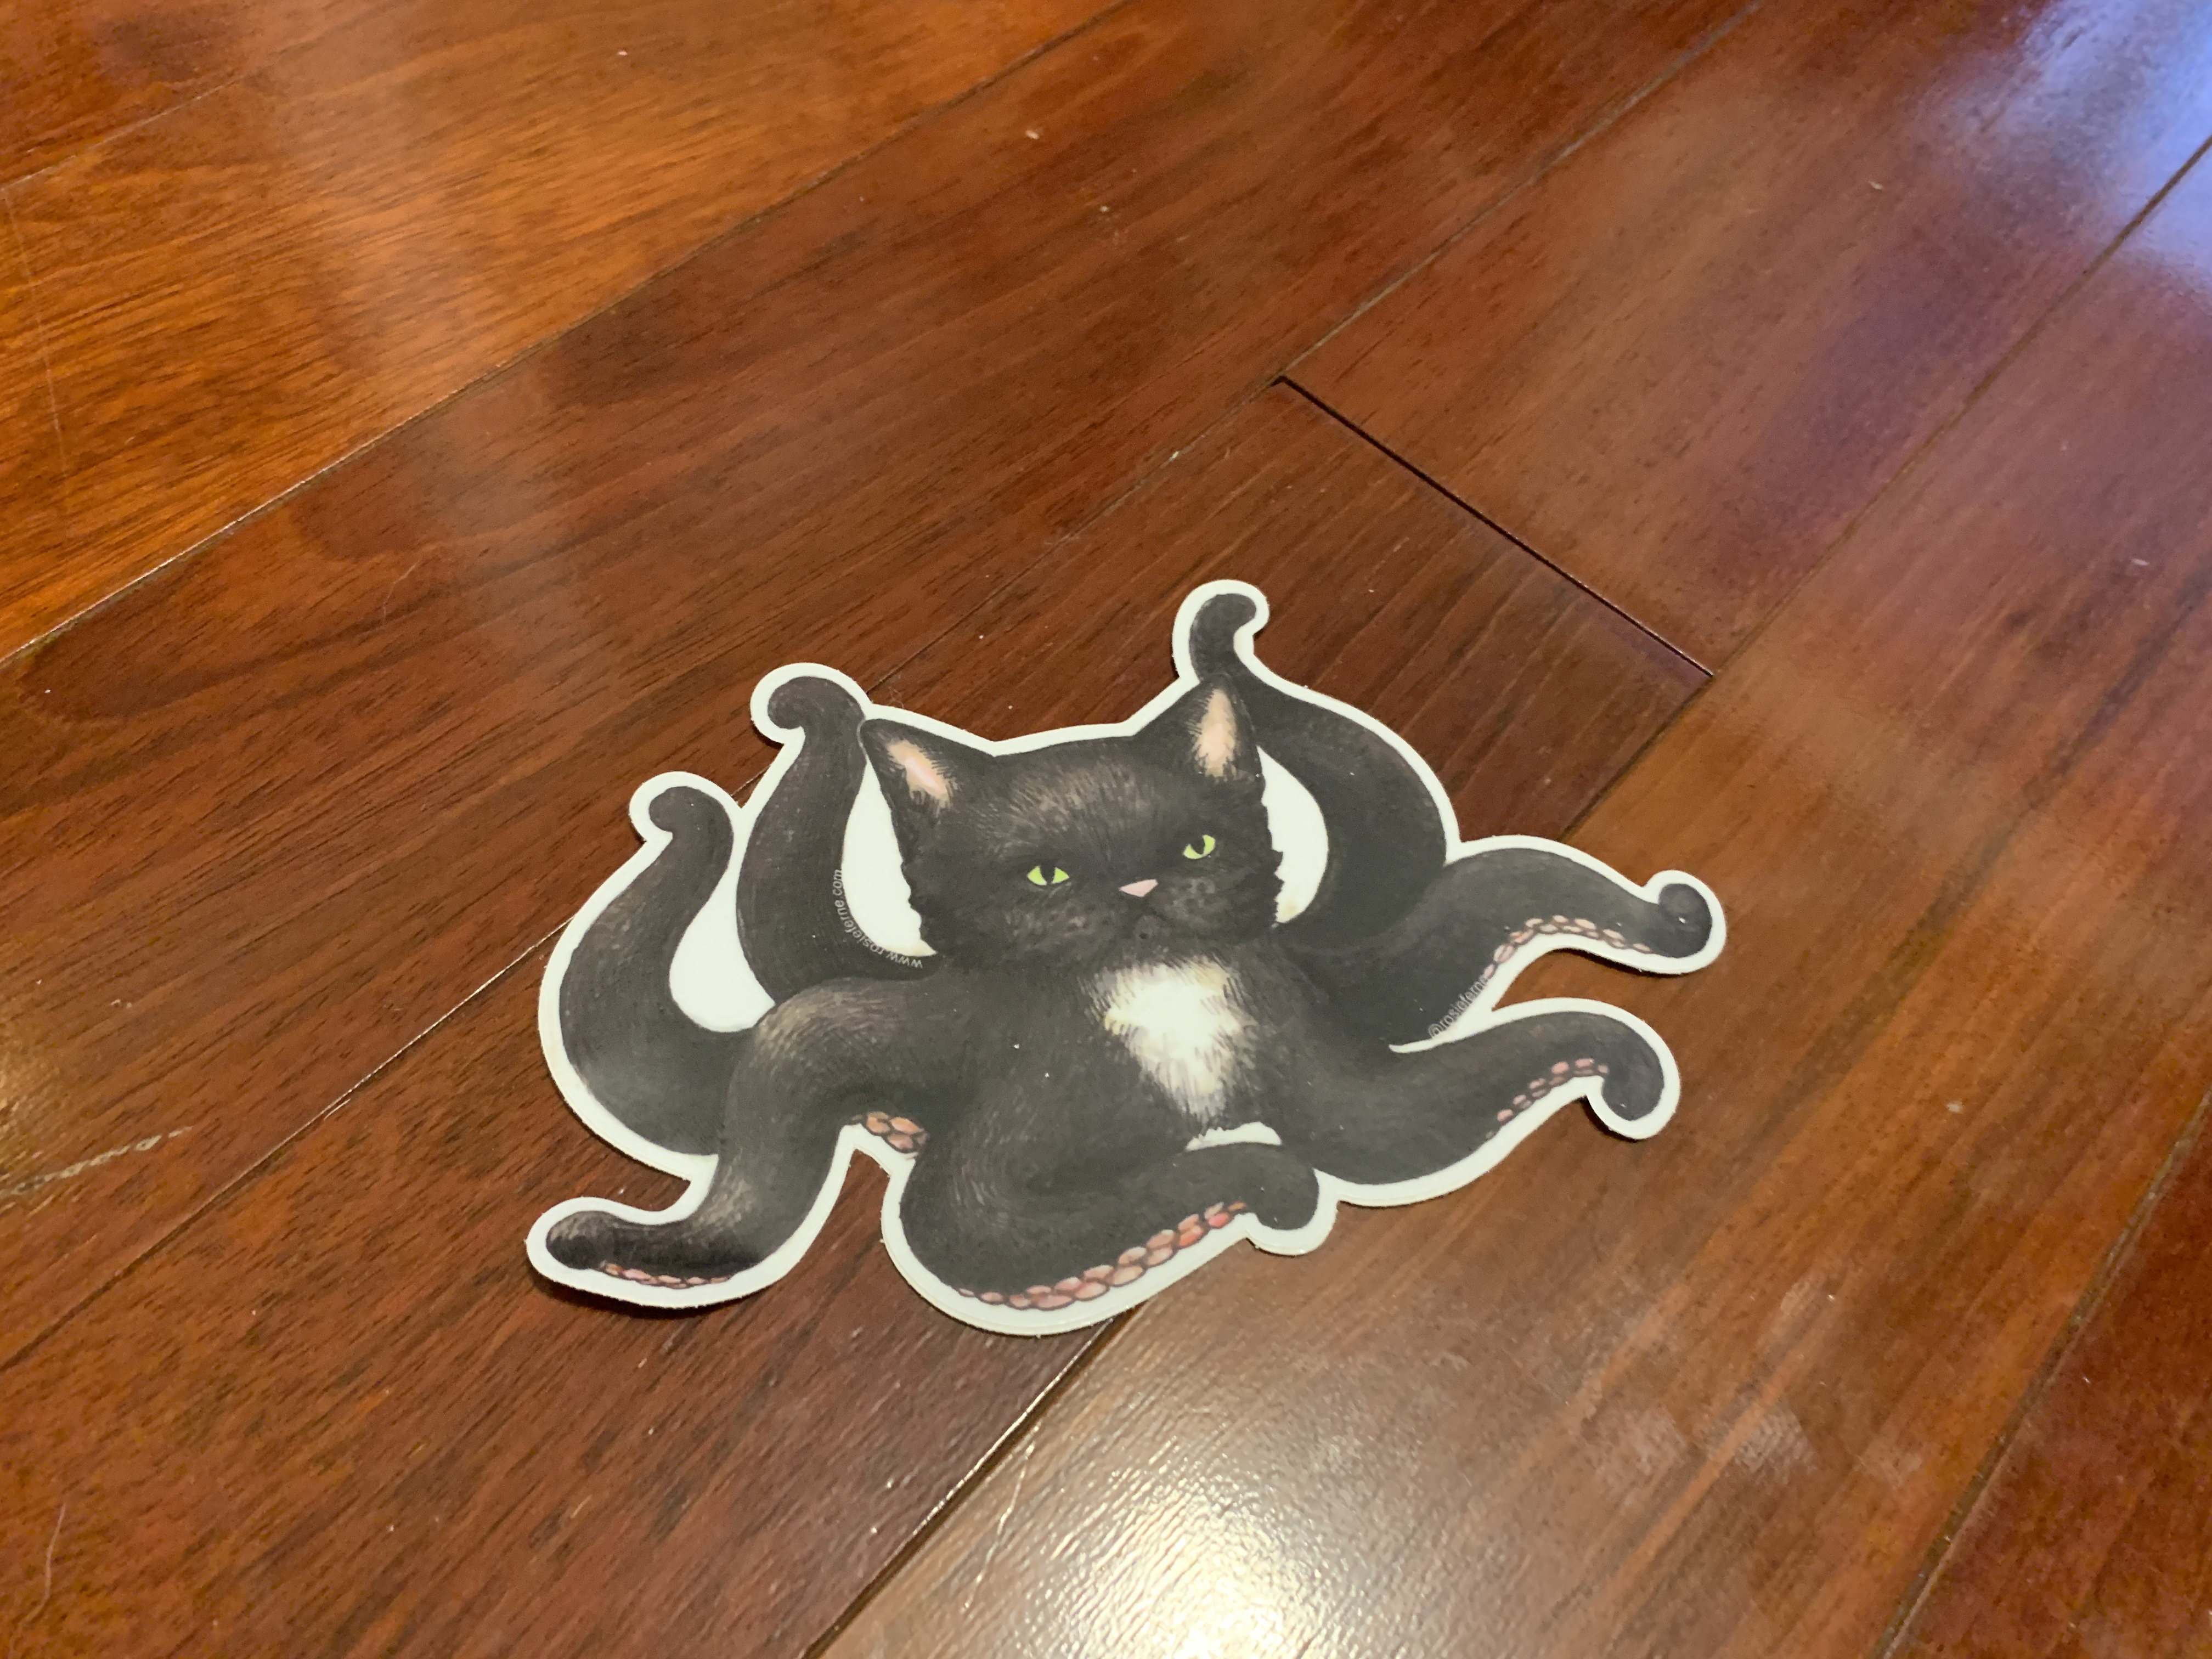Octocat-OffBrand: (371, 540, 1757, 1382)
